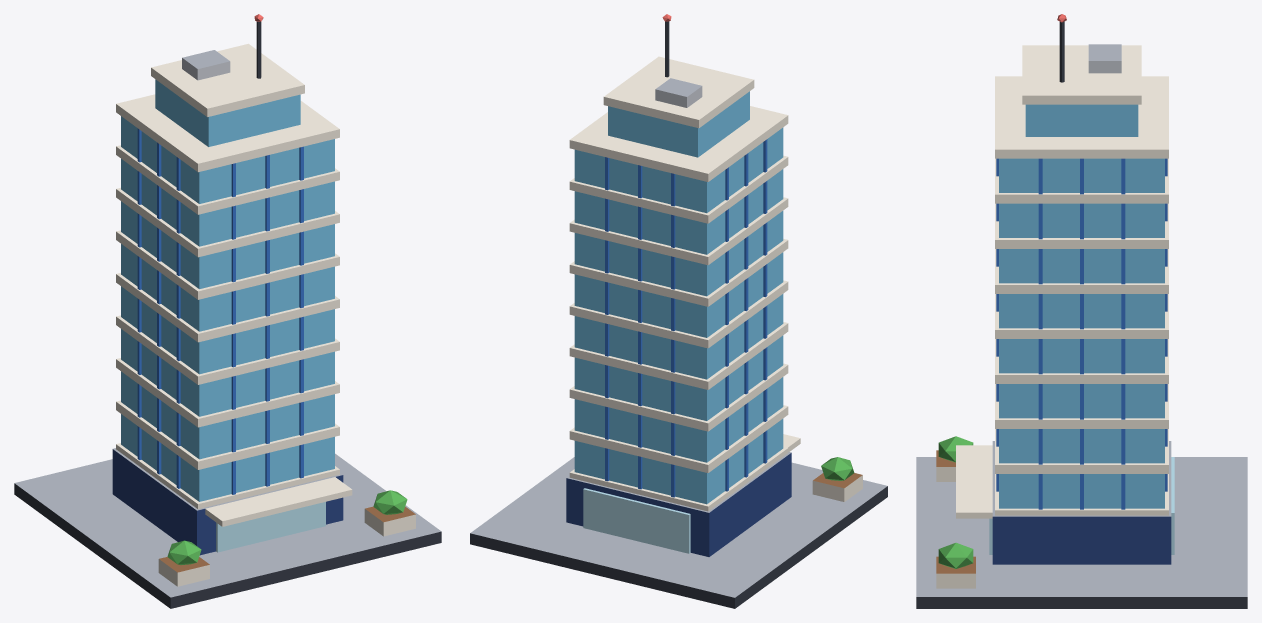
Rendered from office_glass_tower.glb.
The picture shows the model from 3 angles, left to right: view 1: azimuth 30°, elevation 25°; view 2: azimuth 150°, elevation 25°; view 3: azimuth 270°, elevation 25°; orthographic projection. The views are drawn at different scales.
Parts seen in each view (by area): view 1: office_glass_tower; view 2: office_glass_tower; view 3: office_glass_tower.
Boxes of the visible parts, <box> form: office_glass_tower: <box>14,14,441,608</box>; office_glass_tower: <box>470,14,887,608</box>; office_glass_tower: <box>916,14,1247,608</box>.
Size of the model in its own units: 1 by 1.78 by 1.
